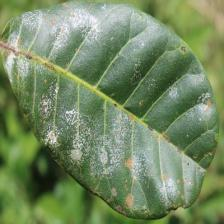red rust: (0, 0, 220, 220)
